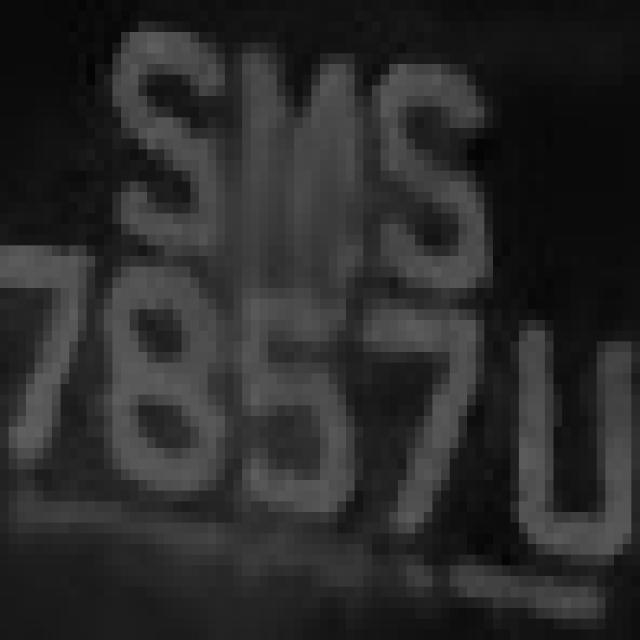5: (233, 267, 372, 533)
7: (355, 288, 493, 565), (0, 192, 104, 512)
8: (95, 245, 242, 523)
M: (225, 32, 380, 309)
S: (372, 43, 502, 309), (95, 10, 225, 266)
U: (7, 5, 9, 10)
